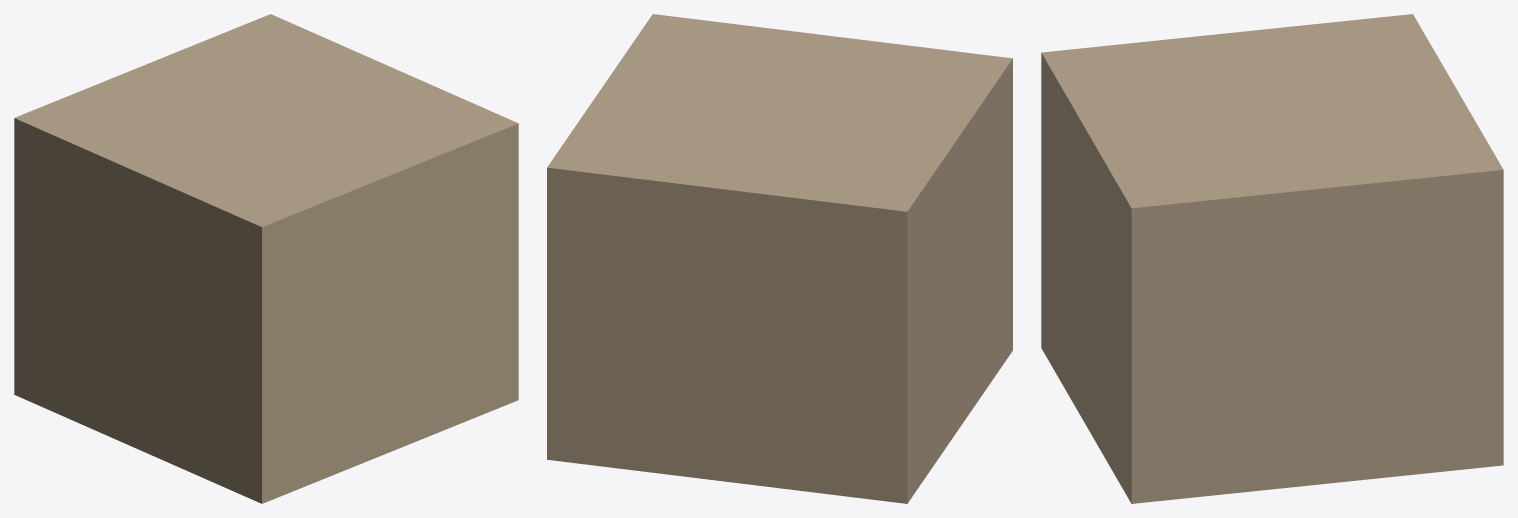
File: bld_99867624.dae
3 views of the same model, side by side, from view 1: azimuth 30°, elevation 25°; view 2: azimuth 150°, elevation 25°; view 3: azimuth 270°, elevation 25° (orthographic). The views are drawn at different scales.
Parts seen in each view (by area): view 1: bld_99867624; view 2: bld_99867624; view 3: bld_99867624.
Boxes of the visible parts, x1=… form: bld_99867624: x1=14, y1=14, x2=518, y2=503; bld_99867624: x1=547, y1=14, x2=1012, y2=503; bld_99867624: x1=1041, y1=14, x2=1503, y2=503.
Size of the model in its own units: 11.28 by 11.34 by 8.
